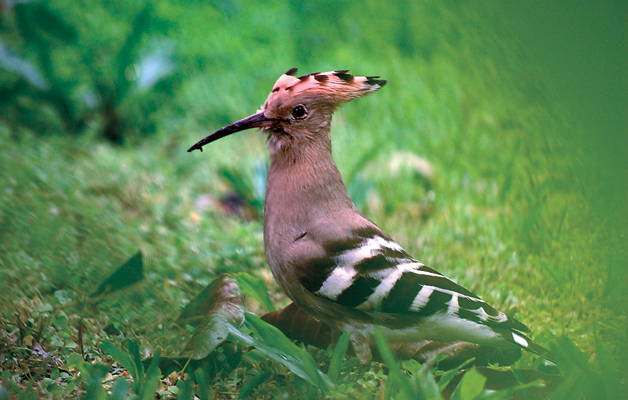bird: (182, 61, 564, 400)
